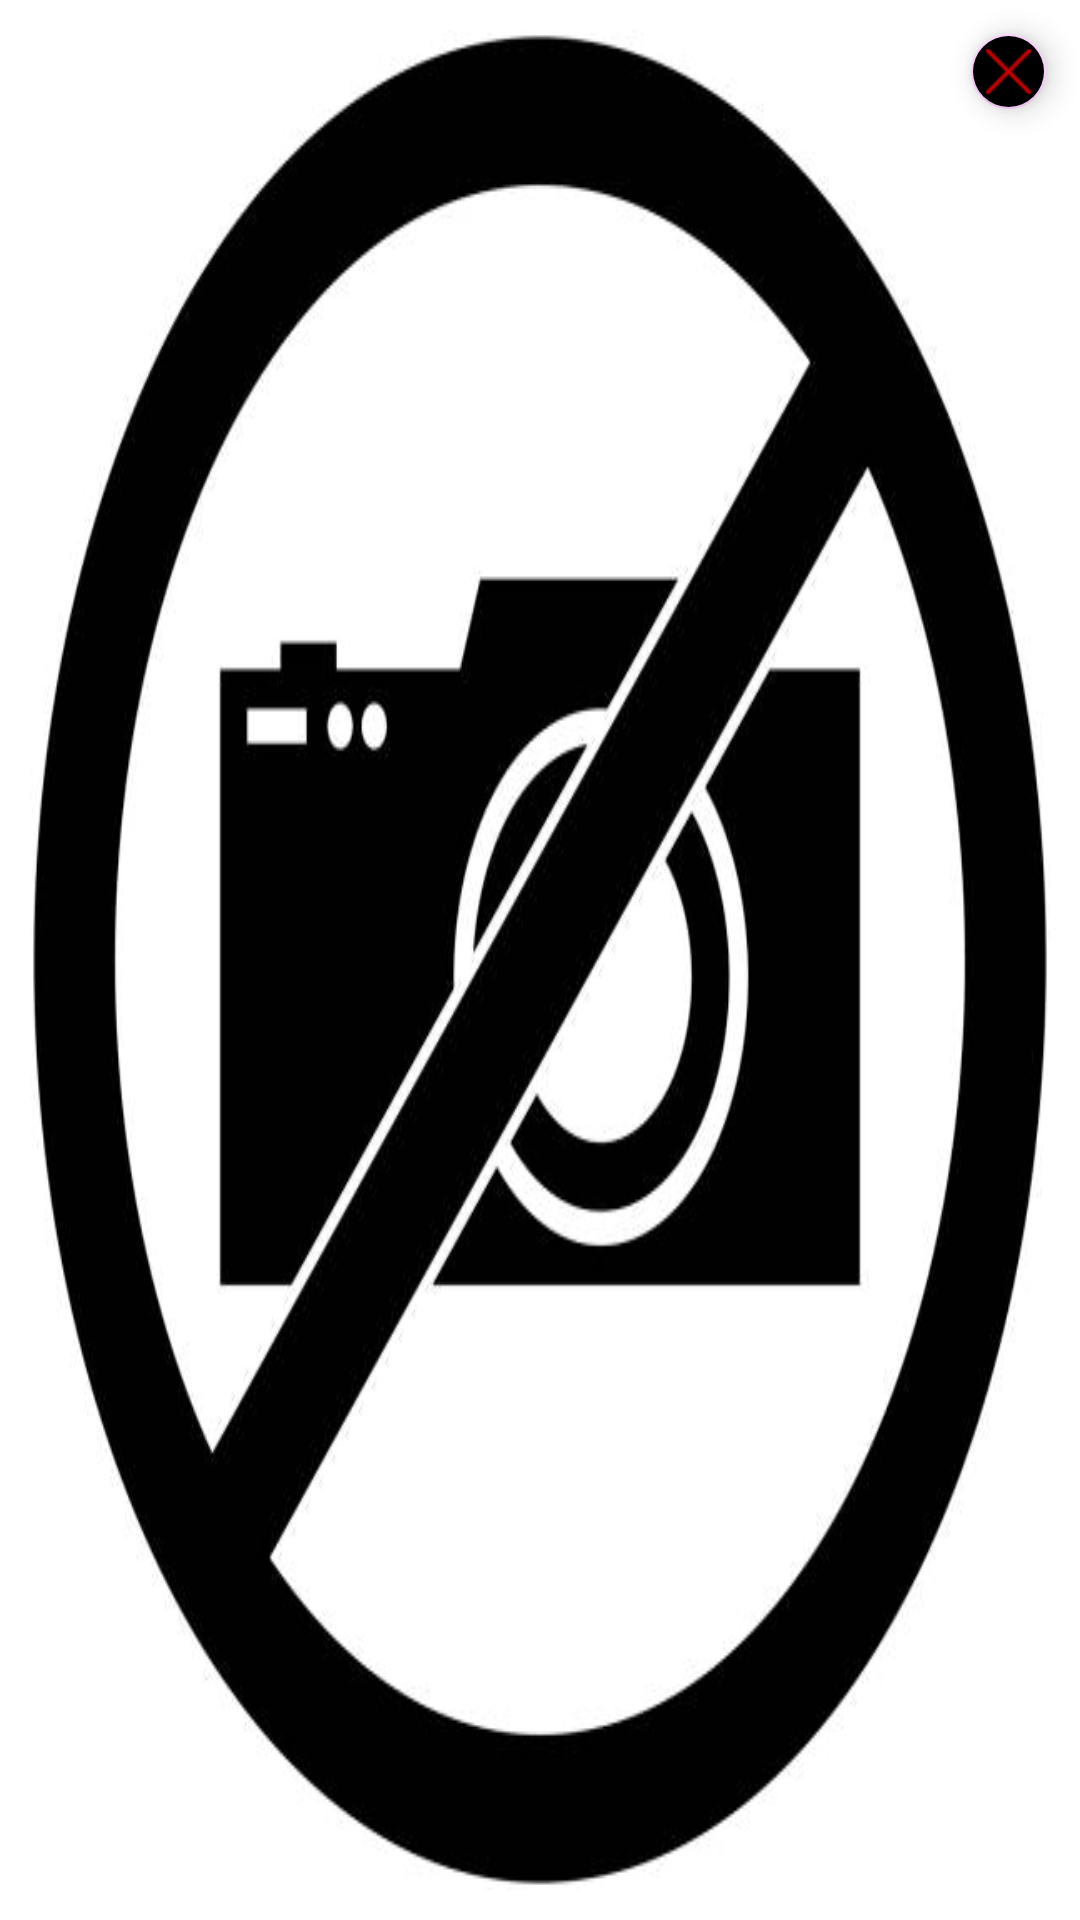

Named icons in this screenshot (1080px×1920px) and their centers, [x,y]:
not finished: [1010,72]
